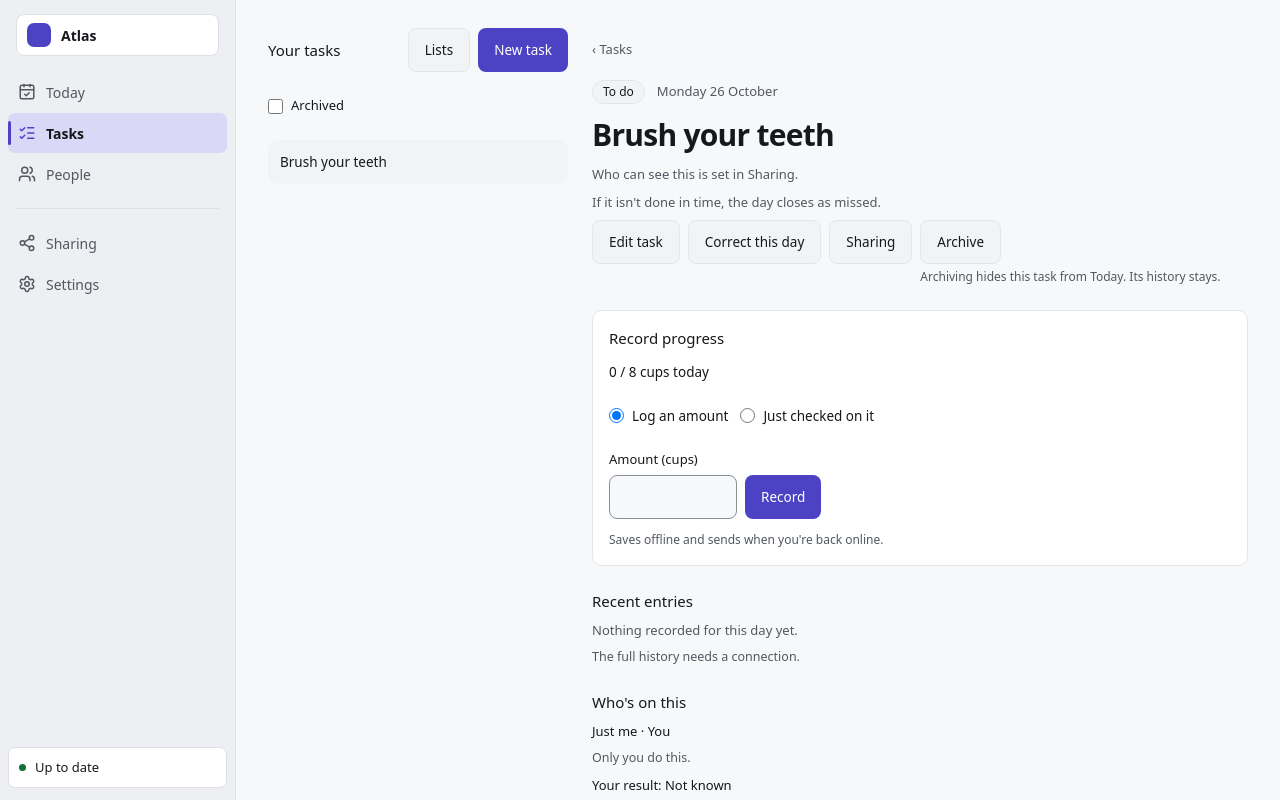
the correction dialog (WF-TASK-03; A14) › Cancel discards the edit: reopening shows the saved values
Click the button "Correct this day": {"x": 755, "y": 242} x1=688 y1=220 x2=821 y2=264
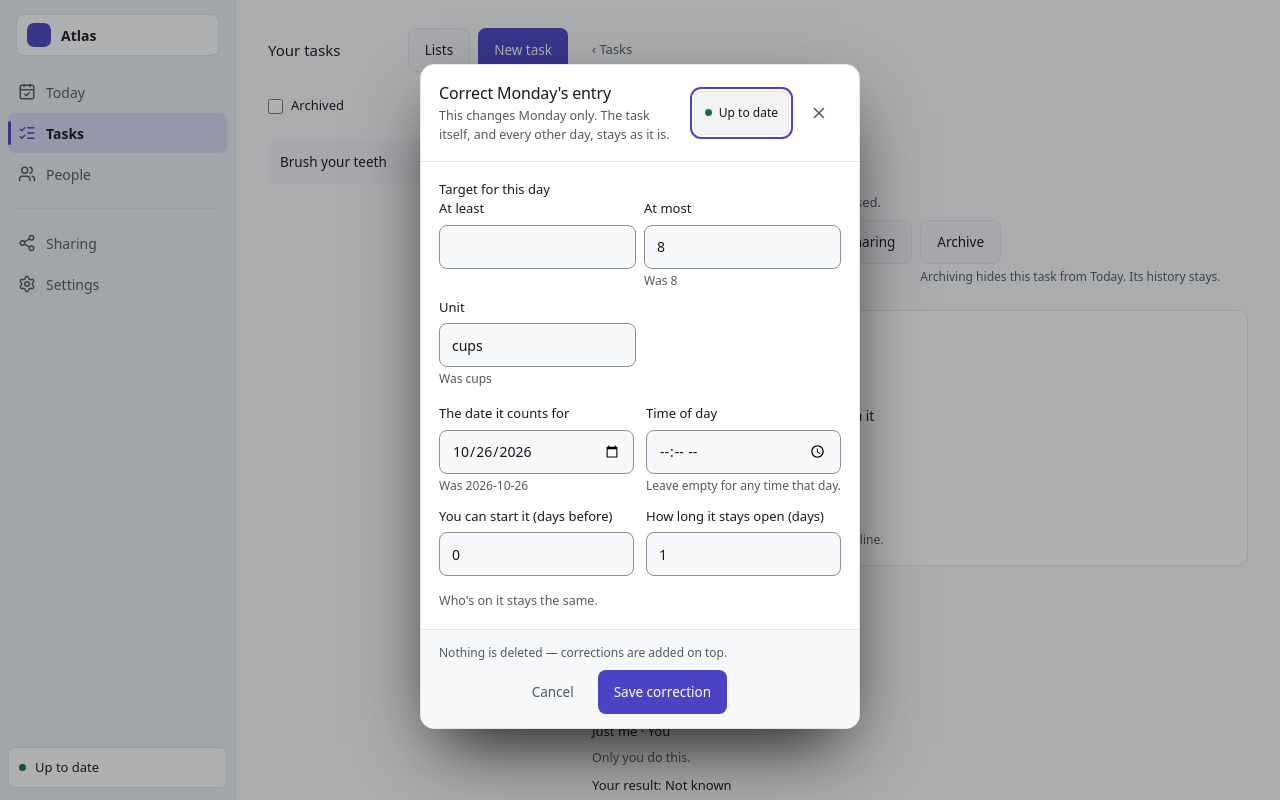
Replace the text in the field labelled "At most" with "3": {"x": 742, "y": 246} x1=644 y1=224 x2=841 y2=268
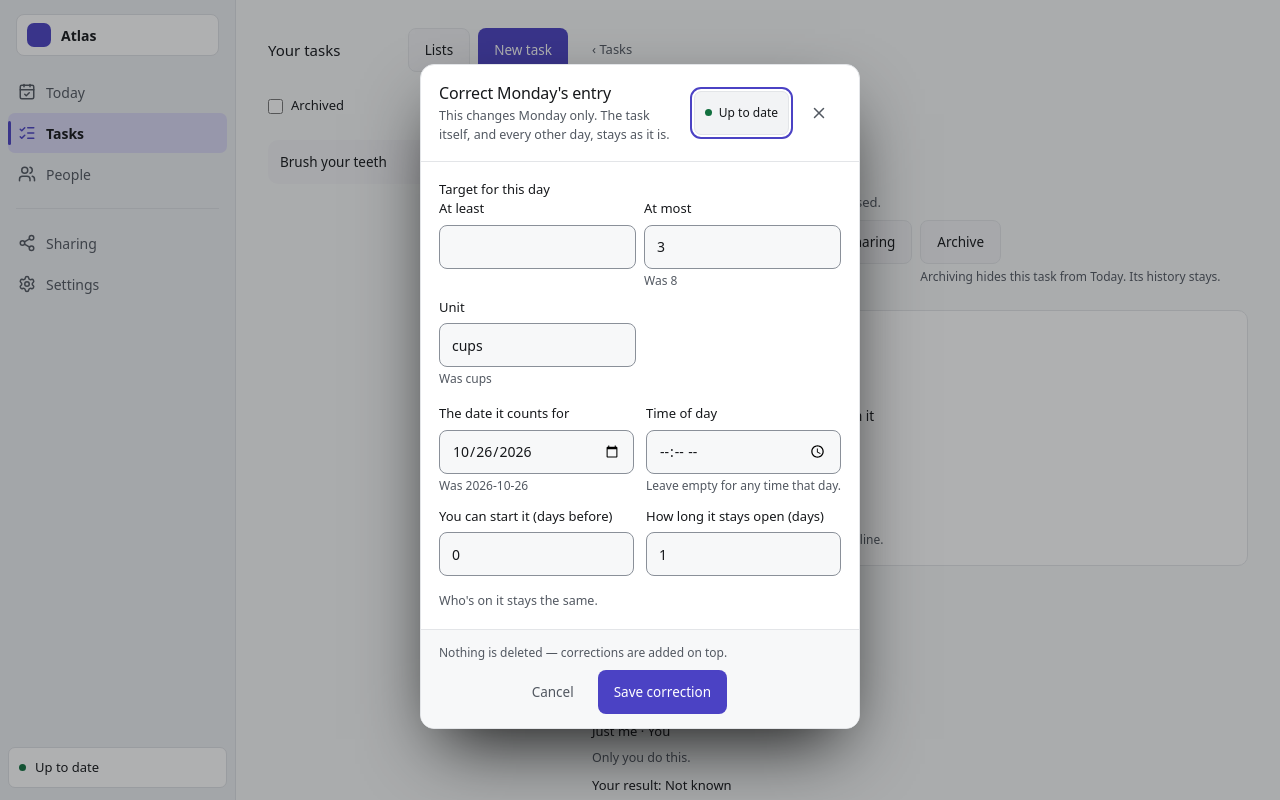
Click the button "Cancel": {"x": 553, "y": 692} x1=516 y1=670 x2=590 y2=714
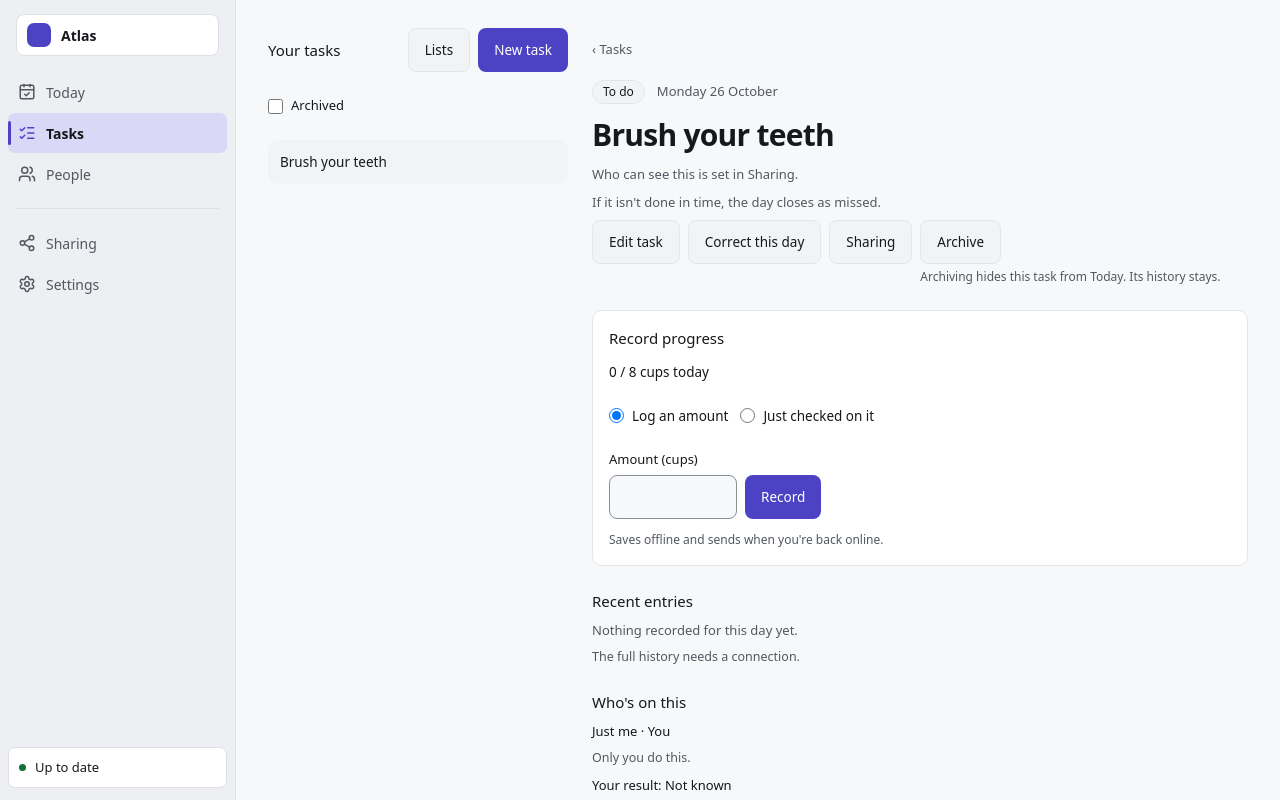
Click the button "Correct this day": {"x": 755, "y": 242} x1=688 y1=220 x2=821 y2=264
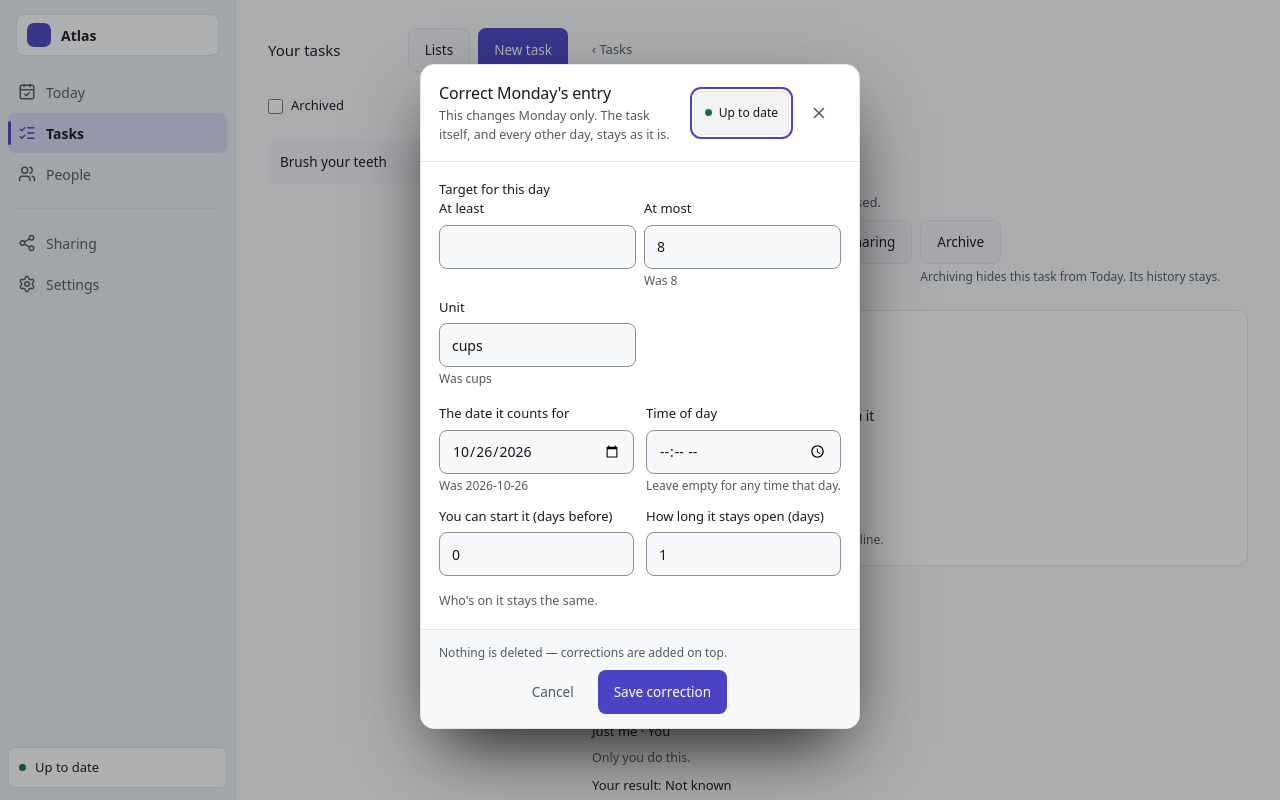
Expected: the field labelled "At most" holds "8", x1=644 y1=224 x2=841 y2=268
